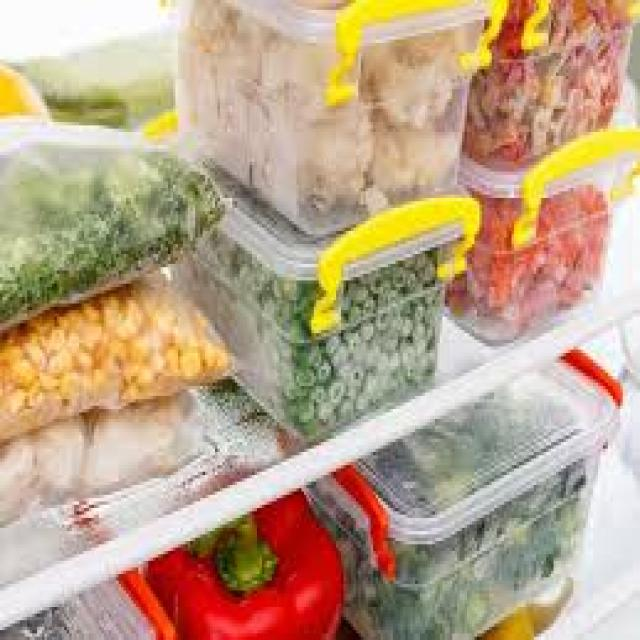organic waste: (178, 20, 358, 204), (398, 465, 576, 637), (146, 482, 341, 636), (2, 152, 202, 300), (465, 7, 625, 158), (5, 284, 205, 399), (183, 234, 306, 416), (296, 268, 435, 412), (378, 383, 563, 488), (348, 40, 459, 188), (89, 393, 198, 485), (341, 521, 408, 637), (0, 412, 86, 501), (479, 604, 534, 636)
